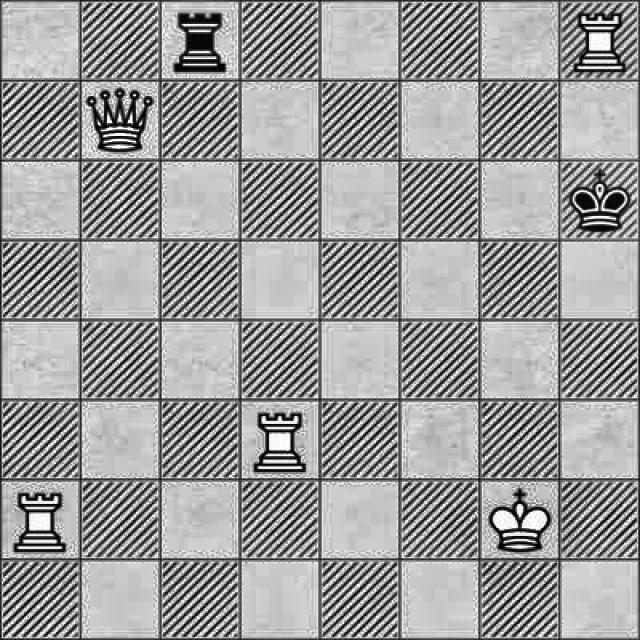black king: (562, 166, 636, 236)
black rook: (164, 11, 235, 78)
white king: (486, 479, 554, 554)
white queen: (82, 82, 158, 157)
white rook: (4, 485, 74, 553), (246, 406, 311, 476), (571, 8, 630, 76)
